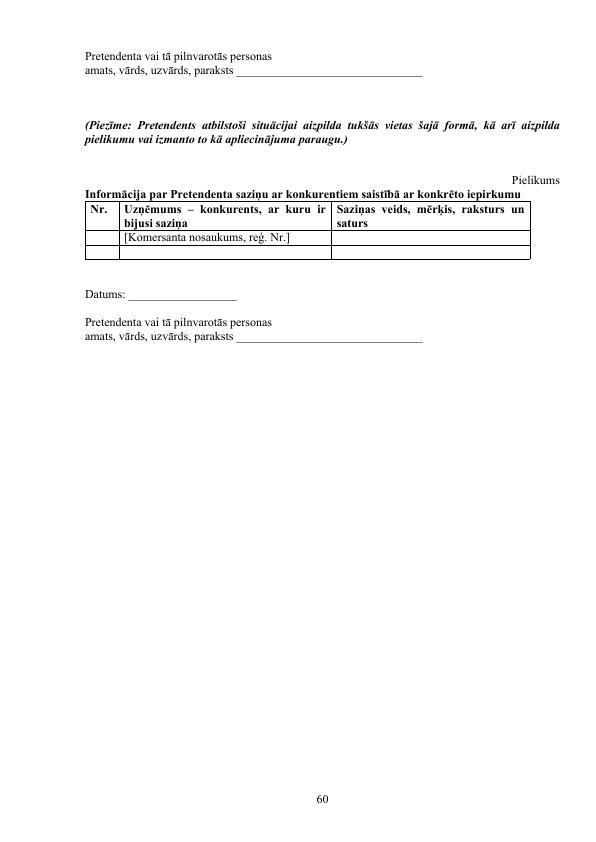input: (237, 332, 424, 351), (237, 67, 431, 85), (127, 285, 240, 305)
table: (75, 200, 537, 263)
text: (80, 113, 566, 149), (78, 186, 532, 198), (82, 47, 277, 64), (82, 315, 275, 329), (80, 332, 235, 347), (73, 67, 238, 80), (508, 171, 565, 189), (73, 286, 126, 303)
